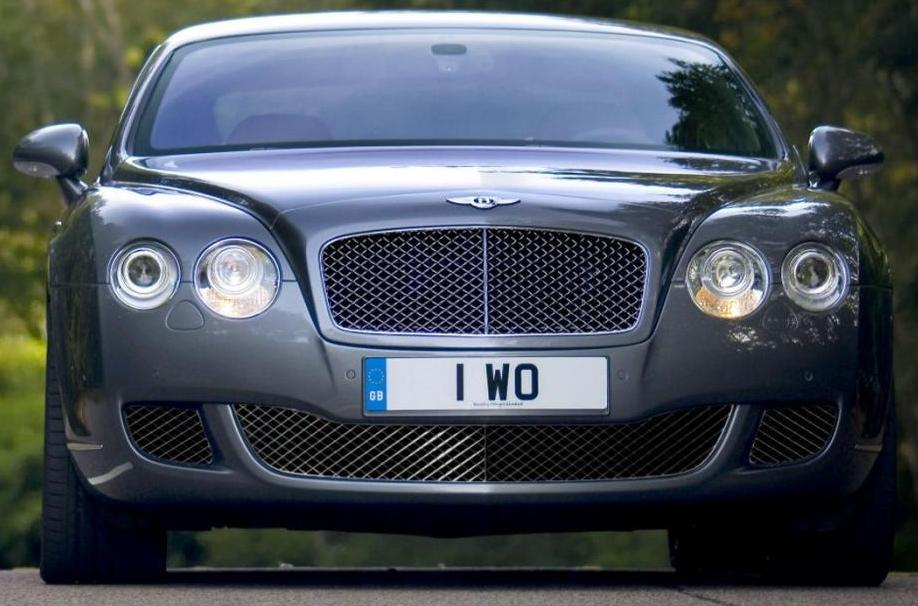front_view: (61, 209, 896, 503)
headlight: (97, 228, 289, 332)
